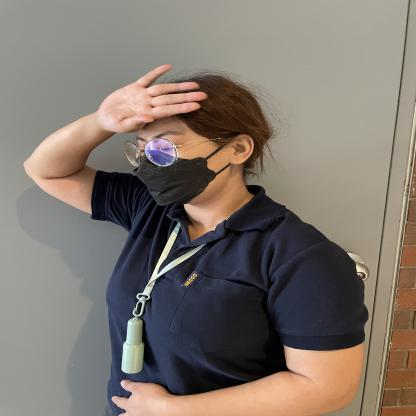Sick: (22, 64, 284, 216)
